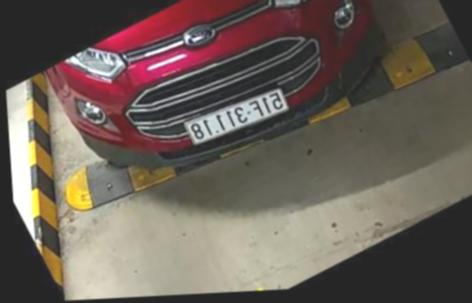License_Plate: (172, 82, 298, 159)
